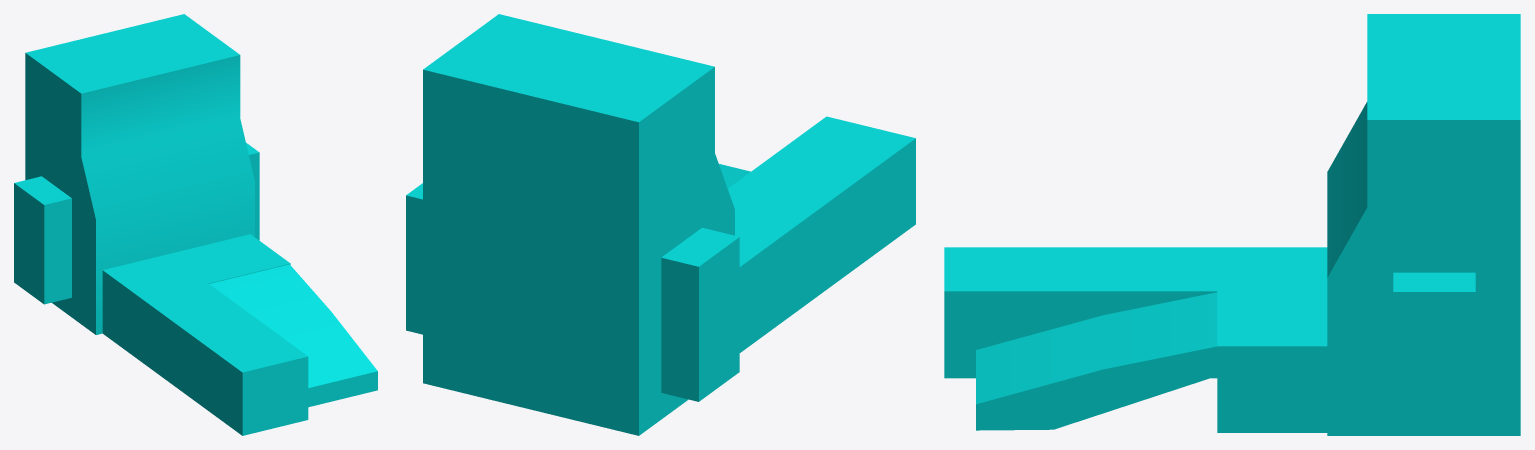
Rendered from SM_Prop_Hibernation_Pod_Console_01_Collision.fbx.
The picture shows the model from 3 angles, left to right: view 1: azimuth 30°, elevation 25°; view 2: azimuth 150°, elevation 25°; view 3: azimuth 270°, elevation 25°; orthographic projection. The views are drawn at different scales.
Visible parts, largest first — view 1: SM_Prop_Hibernation_Pod_Console_01_Collision; view 2: SM_Prop_Hibernation_Pod_Console_01_Collision; view 3: SM_Prop_Hibernation_Pod_Console_01_Collision.
Boxes of the visible parts, x1,y1,x2,y2 form: SM_Prop_Hibernation_Pod_Console_01_Collision: (14,14,377,435); SM_Prop_Hibernation_Pod_Console_01_Collision: (406,14,915,435); SM_Prop_Hibernation_Pod_Console_01_Collision: (944,14,1520,435).
Bounding box in the file's own units: 176 × 180 × 298.
